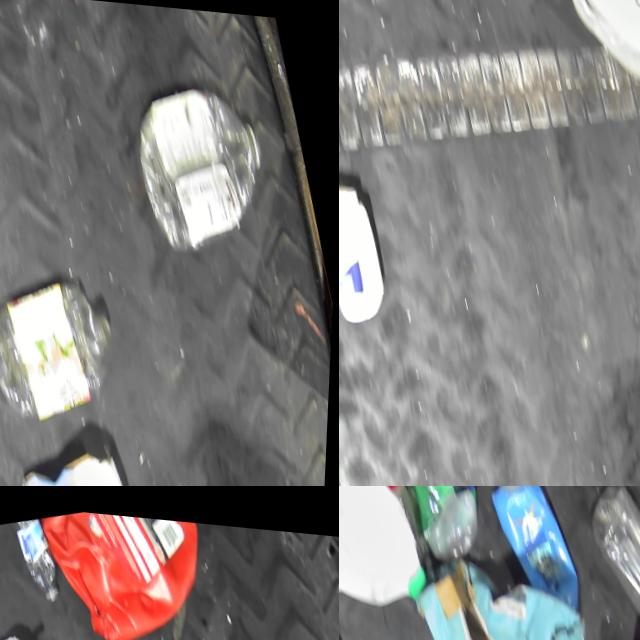milk_jug: (339, 486, 442, 624), (532, 0, 640, 98)
non_white_jug: (39, 503, 217, 640)
plastic_bottle: (124, 53, 288, 251), (0, 254, 132, 429), (578, 486, 640, 640), (7, 509, 69, 608)
